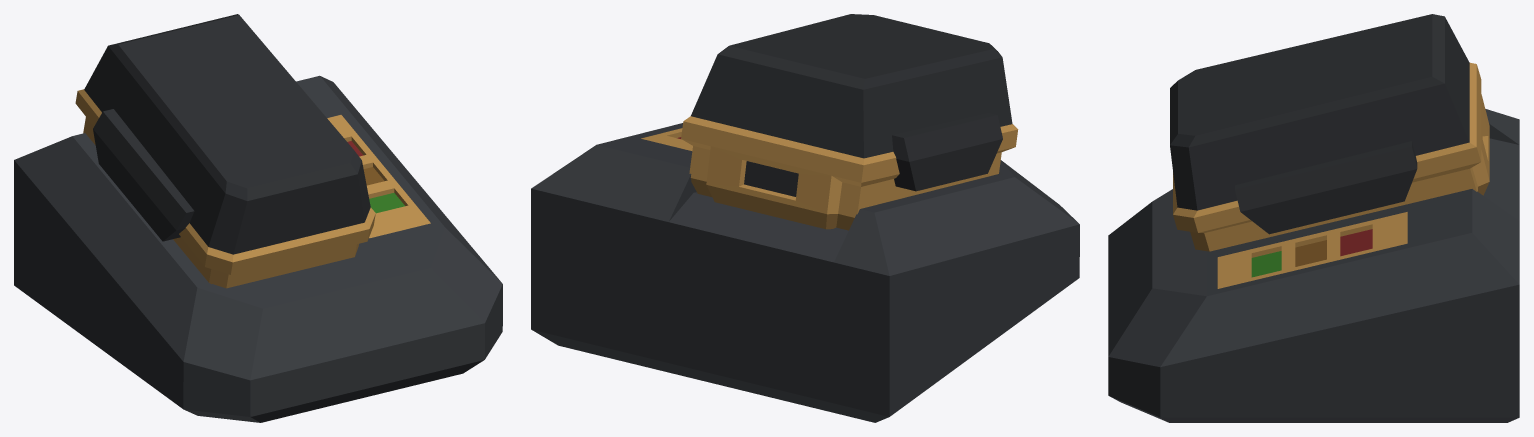
Rendered from SM_Prop_Battery_Charger_Single_01.fbx.
3 views of the same model, side by side, from view 1: azimuth 30°, elevation 25°; view 2: azimuth 150°, elevation 25°; view 3: azimuth 270°, elevation 25° (orthographic). The views are drawn at different scales.
Parts seen in each view (by area): view 1: SM_Prop_Battery_Charger_Single_01, SM_Prop_Battery_Charger_Single_01_Battery; view 2: SM_Prop_Battery_Charger_Single_01, SM_Prop_Battery_Charger_Single_01_Battery; view 3: SM_Prop_Battery_Charger_Single_01, SM_Prop_Battery_Charger_Single_01_Battery.
Boxes of the visible parts, bbox=[...] form: SM_Prop_Battery_Charger_Single_01: bbox=[14, 75, 502, 422]; SM_Prop_Battery_Charger_Single_01_Battery: bbox=[75, 14, 375, 274]; SM_Prop_Battery_Charger_Single_01: bbox=[531, 123, 1079, 422]; SM_Prop_Battery_Charger_Single_01_Battery: bbox=[681, 14, 1018, 229]; SM_Prop_Battery_Charger_Single_01: bbox=[1108, 109, 1519, 422]; SM_Prop_Battery_Charger_Single_01_Battery: bbox=[1170, 14, 1489, 234].
Size of the model in its own units: 21.49 by 17.34 by 22.6.
